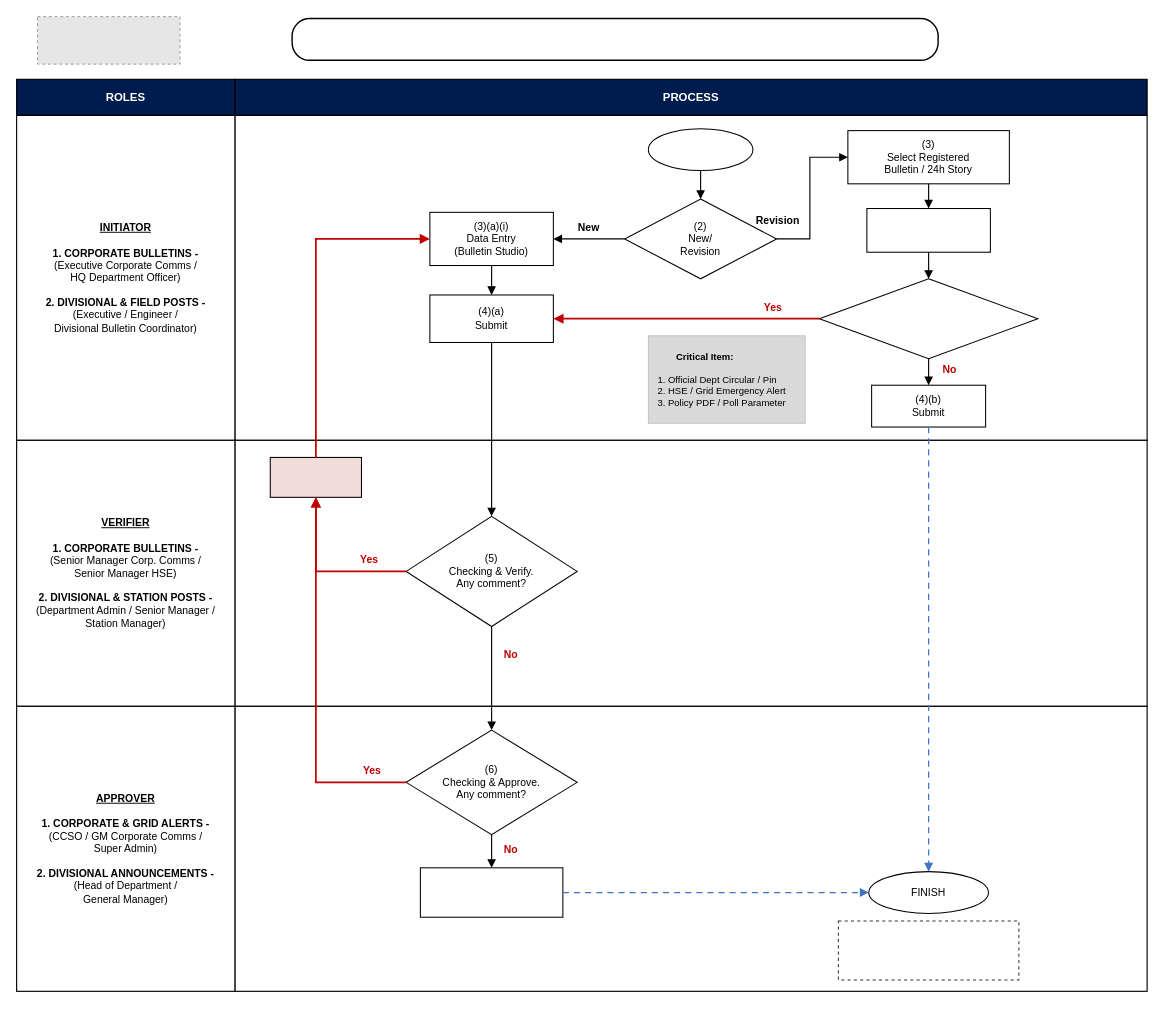
Some shapes in this 1165 by 1009 pixel diagram are drawn without their labels. Grey dashed boxes stand in for pictures. The centre of each missing label's shape, as x and y in pixels:
(1) START: the point at 700,149
(3)(b)(i) Data Entry: the point at 928,230
(3)(b)(ii) Any Changes to critical Item?: the point at 928,318
1. Process Flow Corporate Communication - SE Bulletin Data Entry & Publishing: the point at 614,39
Approve & Submit: the point at 491,892
Data Captured & Stored In SE Bulletin Cloud DB & Live Realtime PWA Feed: the point at 928,950
Reject: the point at 315,476
